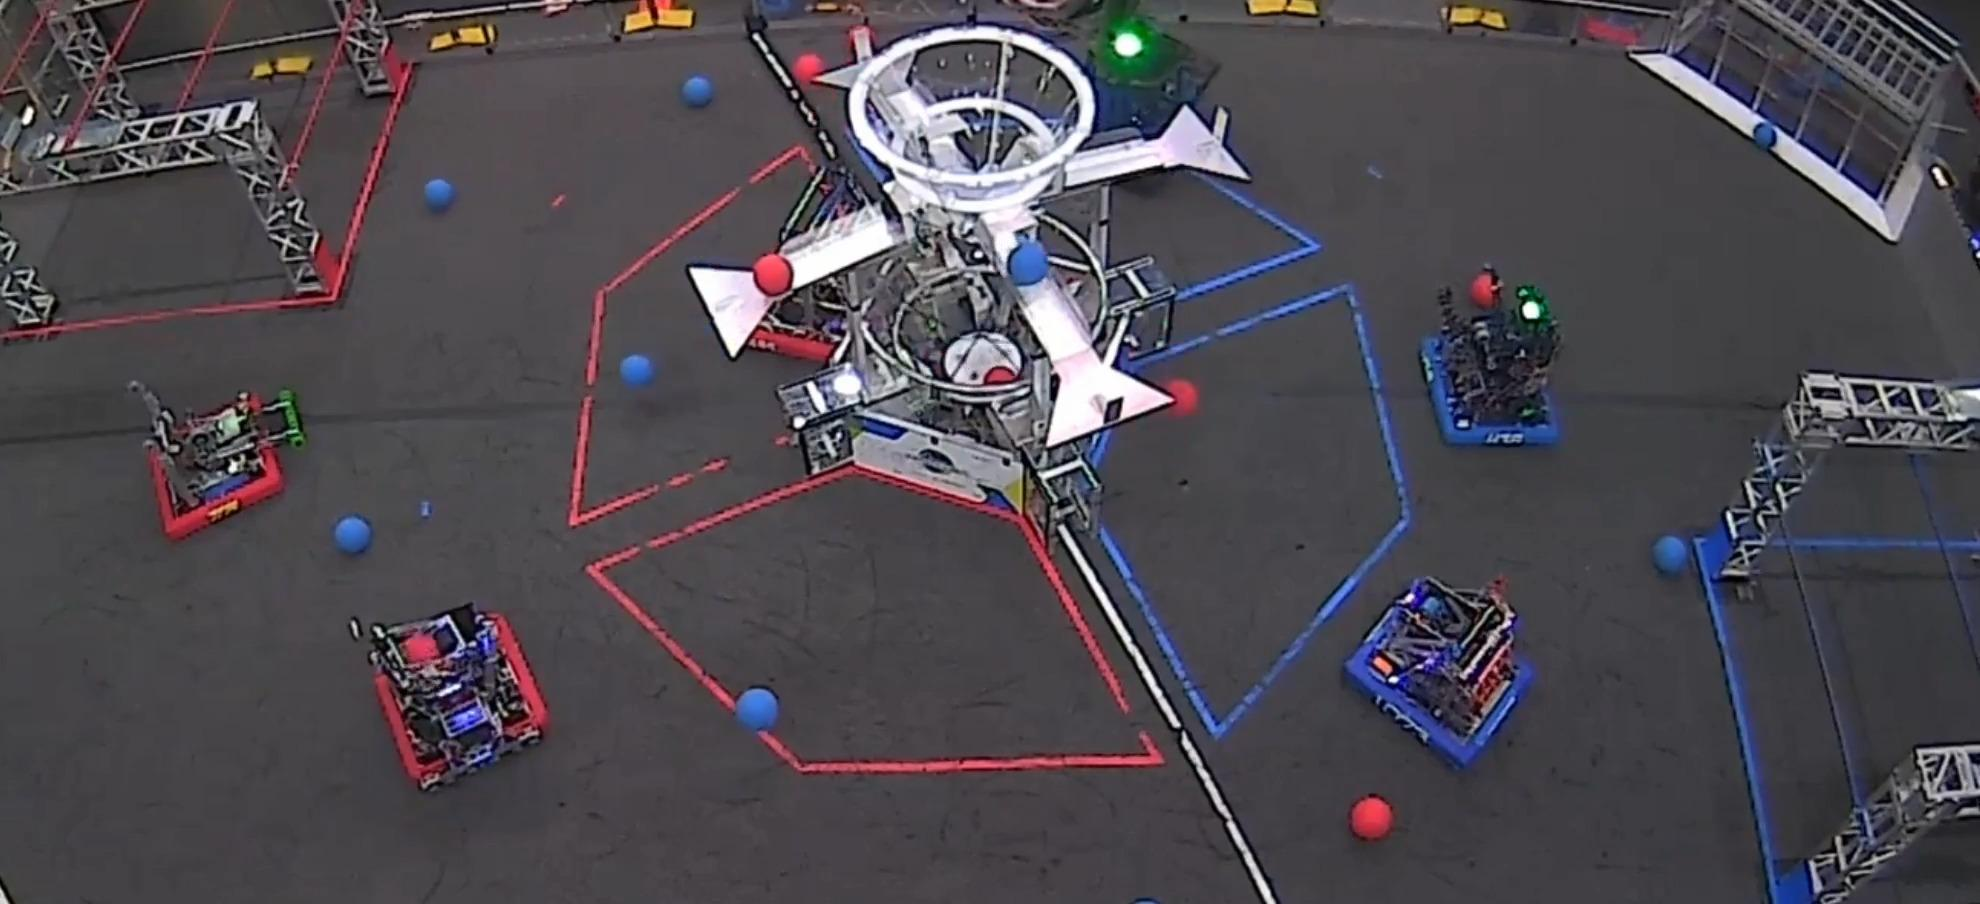Robots: (350, 604, 546, 789), (1347, 578, 1530, 766), (129, 383, 306, 539), (1424, 266, 1560, 444), (1078, 13, 1211, 184), (749, 282, 849, 362)
